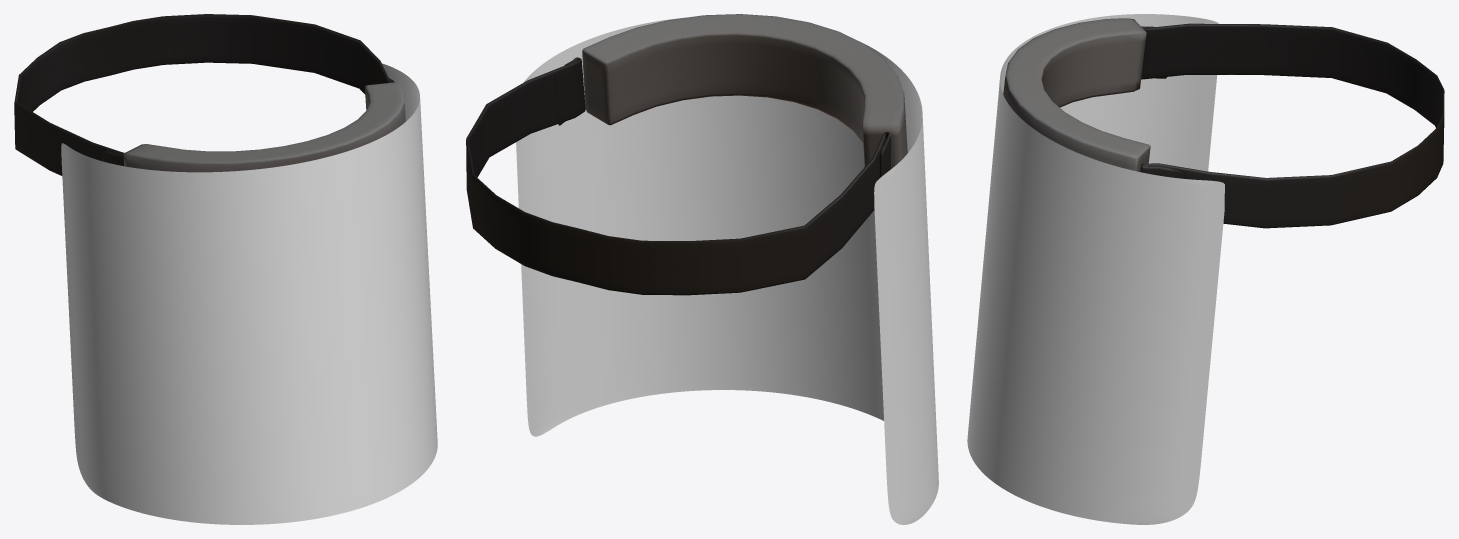
The model's file is eye protection.fbx.
3 renders of one model, left to right at view 1: azimuth 30°, elevation 25°; view 2: azimuth 150°, elevation 25°; view 3: azimuth 270°, elevation 25°, orthographic. The views are drawn at different scales.
Parts seen in each view (by area): view 1: FaceShield_glass001, FaceShield_strap001, FaceShield_foam001; view 2: FaceShield_glass001, FaceShield_strap001, FaceShield_foam001; view 3: FaceShield_glass001, FaceShield_strap001, FaceShield_foam001.
Boxes of the visible parts, bbox=[...] form: FaceShield_glass001: bbox=[61, 63, 437, 524]; FaceShield_strap001: bbox=[14, 14, 394, 175]; FaceShield_foam001: bbox=[123, 82, 405, 172]; FaceShield_glass001: bbox=[516, 17, 938, 524]; FaceShield_strap001: bbox=[466, 57, 890, 295]; FaceShield_foam001: bbox=[582, 14, 907, 168]; FaceShield_glass001: bbox=[967, 14, 1224, 524]; FaceShield_strap001: bbox=[1140, 23, 1444, 228]; FaceShield_foam001: bbox=[1003, 18, 1150, 171].
Bounding box in the file's own units: 6.52 × 6.75 × 7.91.
Materials: 2 (1 with a texture image).
